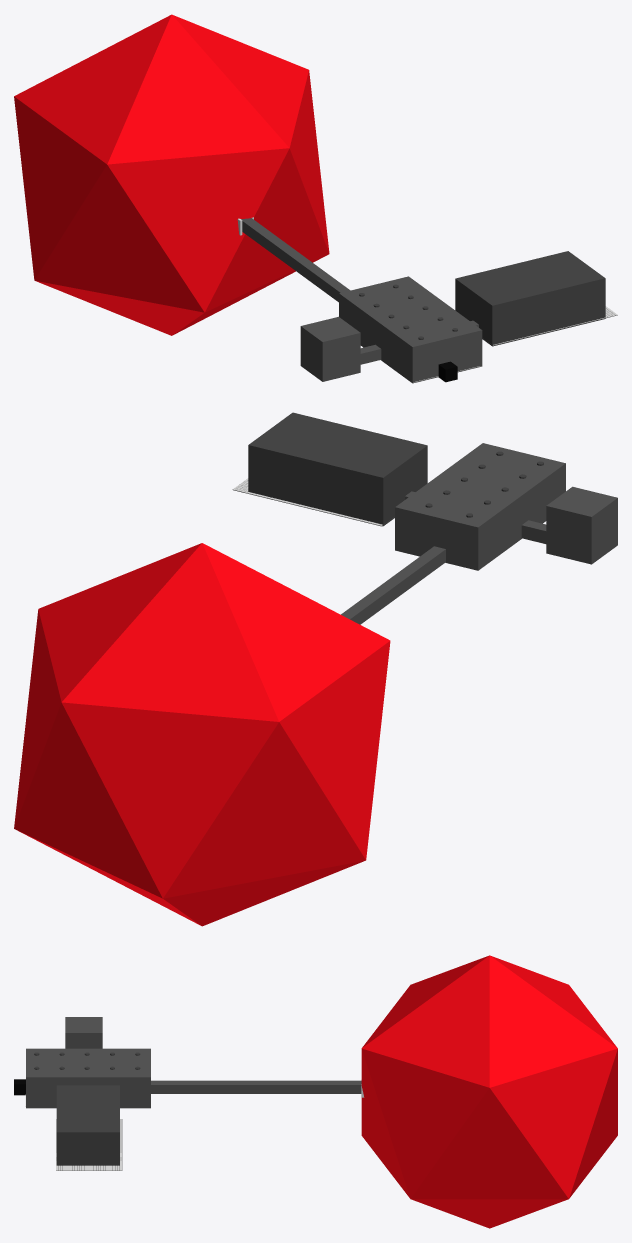
The model's file is katakumby2.glb.
3 views of the same model, one above another, from view 1: azimuth 30°, elevation 25°; view 2: azimuth 150°, elevation 25°; view 3: azimuth 270°, elevation 25° (orthographic). The views are drawn at different scales.
Parts seen in each view (by area): view 1: Icosphere, Cube, K0, Cube.001, F1; view 2: Icosphere, Cube, K0, Cube.001, F1; view 3: Icosphere, K0, Cube, F1, Cube.001, F0.001.
Boxes of the visible parts, x1=… form: Icosphere: x1=14, y1=14, x2=329, y2=335; Cube: x1=455, y1=251, x2=605, y2=346; K0: x1=339, y1=276, x2=482, y2=383; Cube.001: x1=300, y1=316, x2=360, y2=381; F1: x1=241, y1=218, x2=350, y2=302; Icosphere: x1=14, y1=543, x2=390, y2=926; Cube: x1=248, y1=412, x2=427, y2=526; K0: x1=395, y1=443, x2=565, y2=570; Cube.001: x1=546, y1=486, x2=617, y2=564; F1: x1=341, y1=546, x2=445, y2=624; Icosphere: x1=361, y1=955, x2=617, y2=1228; K0: x1=26, y1=1048, x2=150, y2=1108; Cube: x1=56, y1=1085, x2=119, y2=1165; F1: x1=151, y1=1080, x2=361, y2=1093; Cube.001: x1=65, y1=1017, x2=102, y2=1048; F0.001: x1=56, y1=1119, x2=122, y2=1170.
Size of the model in its own units: 301 by 282 by 564.
